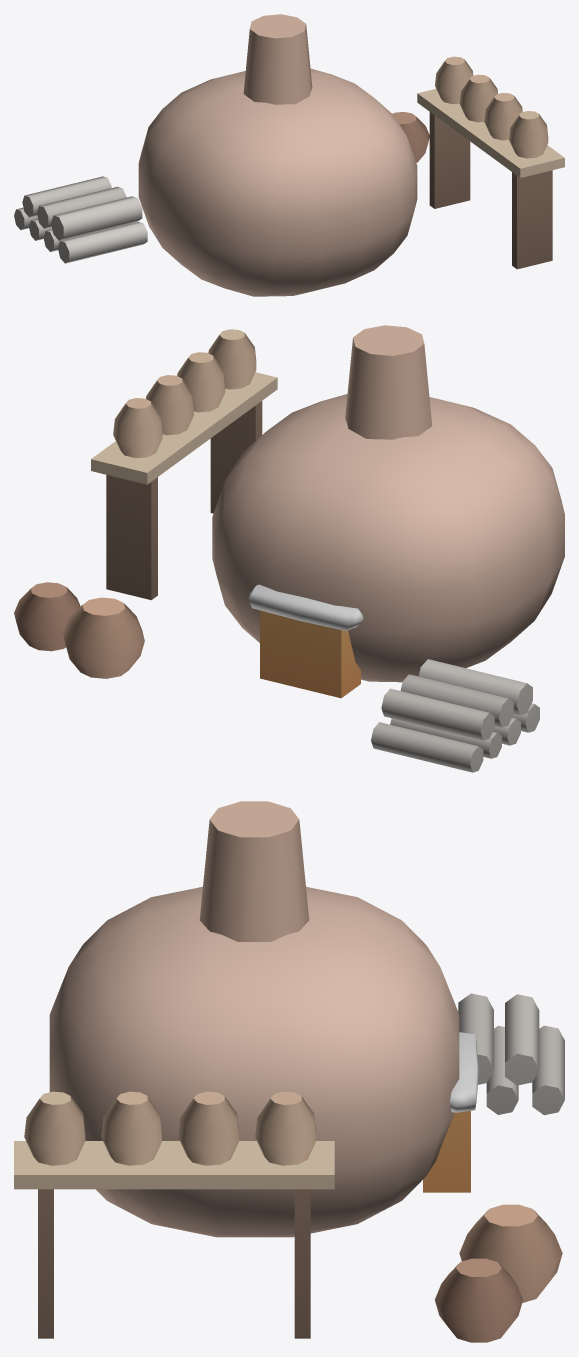
Rendered from hw_pottery_kiln.glb.
3 renders of one model, top to bottom at view 1: azimuth 30°, elevation 25°; view 2: azimuth 150°, elevation 25°; view 3: azimuth 270°, elevation 25°, orthographic. The views are drawn at different scales.
Visible parts, largest first — view 1: Building; view 2: Building; view 3: Building.
Part boxes in pixels (box(x1,y1,x2,y2)): Building: box(14, 14, 564, 296); Building: box(14, 325, 564, 772); Building: box(14, 801, 564, 1342).
Size of the model in its own units: 2.15 by 1.32 by 1.72.
